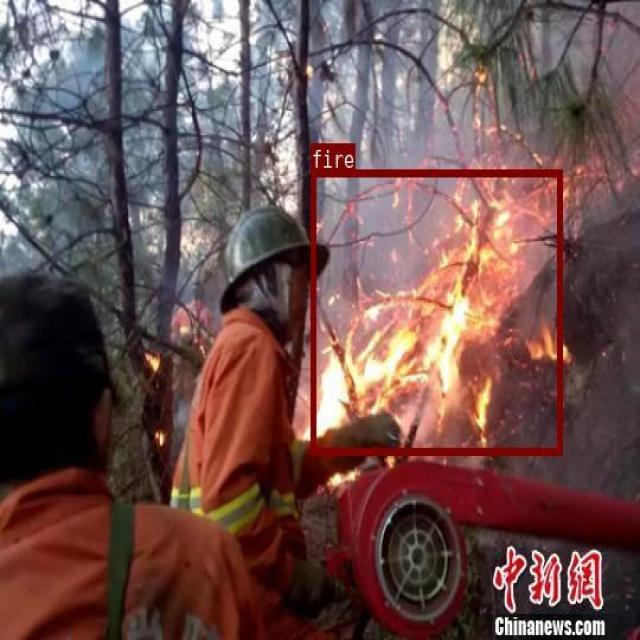fire: (310, 169, 561, 454)
